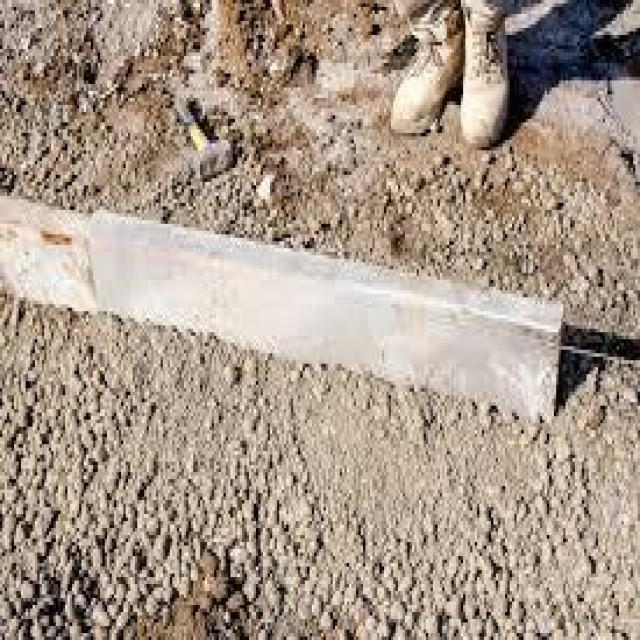bump: (30, 204, 602, 453)
